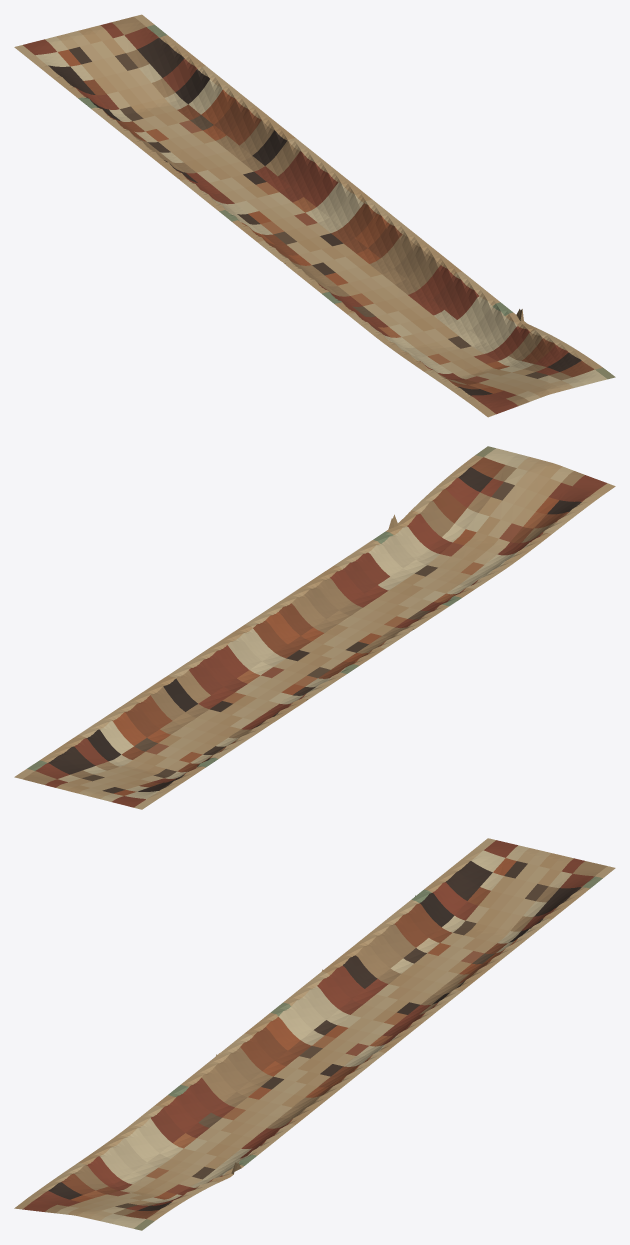
File: liner_trestle_hollow.glb
3 renders of one model, top to bottom at view 1: azimuth 30°, elevation 25°; view 2: azimuth 150°, elevation 25°; view 3: azimuth 330°, elevation 25°, orthographic.
Parts seen in each view (by area): view 1: liner_trestle_hollow_body; view 2: liner_trestle_hollow_body; view 3: liner_trestle_hollow_body.
Boxes of the visible parts, x1,y1,x2,y2 form: liner_trestle_hollow_body: [14, 14, 615, 417]; liner_trestle_hollow_body: [14, 446, 615, 809]; liner_trestle_hollow_body: [14, 838, 615, 1230].
Bounding box in the file's own units: 46 × 17.1 × 295.
